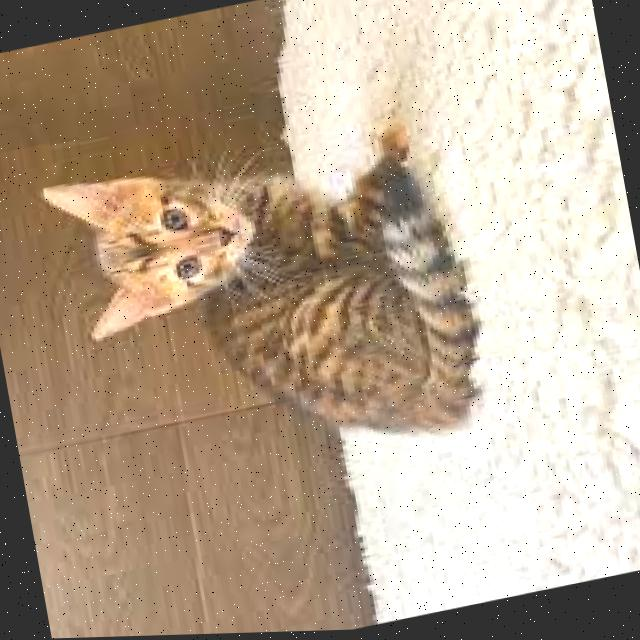Toyger: (33, 101, 500, 506)
